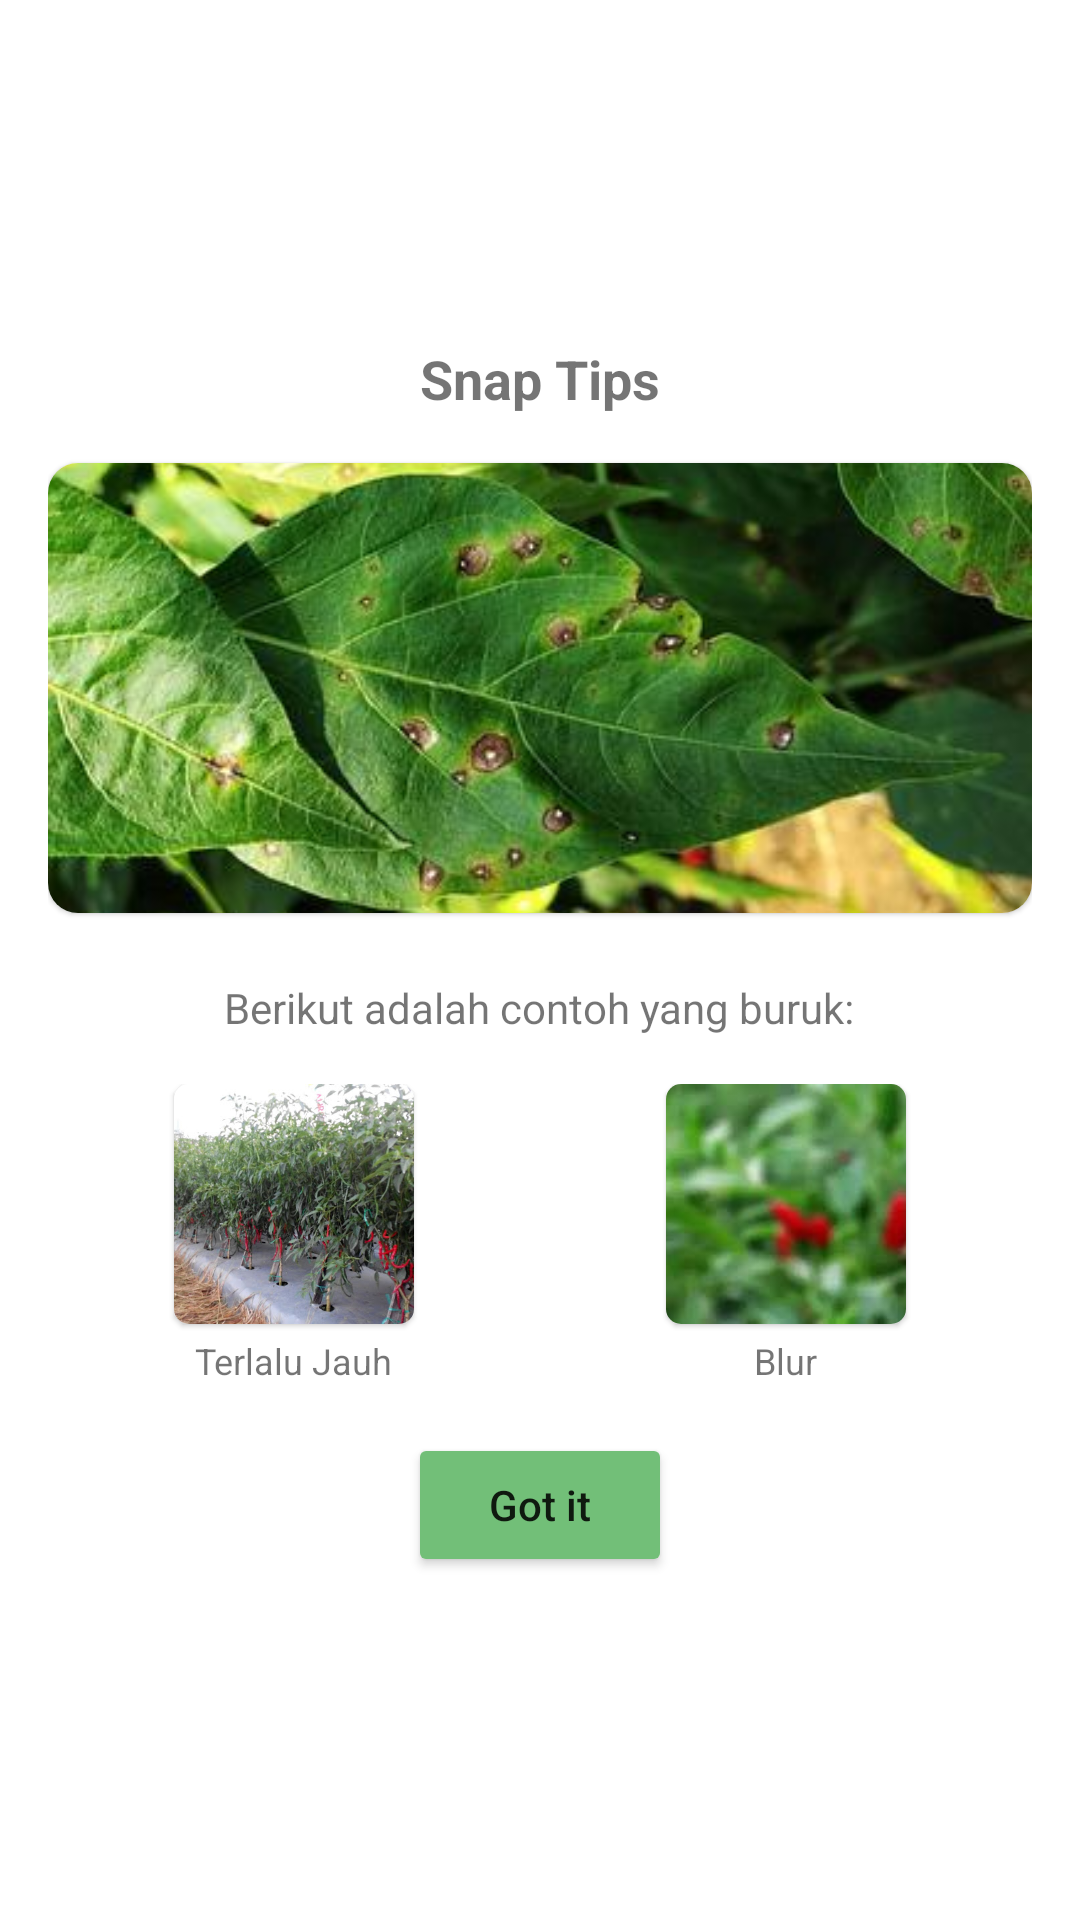

Icons on this 1080 × 1920 Android screen, each with the point to tap as point (x, y):
contoh pengambilan gambar yang buruk 1: point (294, 1204)
contoh pengambilan gambar yang buruk 2: point (786, 1204)
